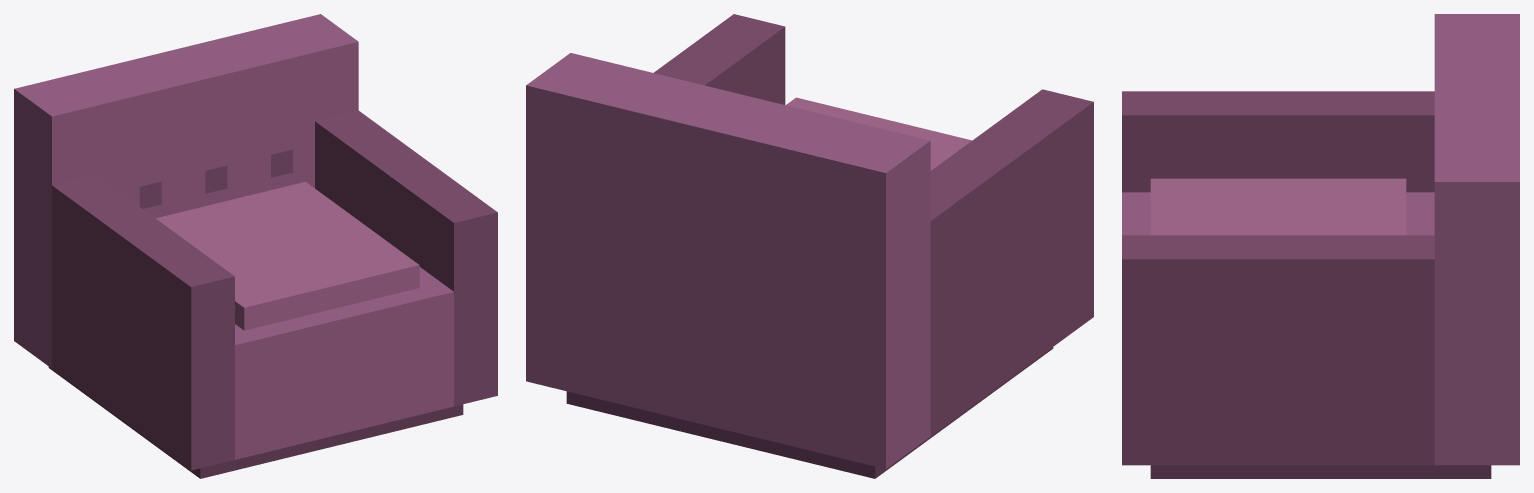
Rendered from butaca_terciopelo_noble_01.glb.
3 views of the same model, side by side, from view 1: azimuth 30°, elevation 25°; view 2: azimuth 150°, elevation 25°; view 3: azimuth 270°, elevation 25° (orthographic). The views are drawn at different scales.
Visible parts, largest first — view 1: butaca_terciopelo_noble; view 2: butaca_terciopelo_noble; view 3: butaca_terciopelo_noble.
Part boxes in pixels (left/top/right/bottom): butaca_terciopelo_noble: left=14, top=14, right=497, bottom=478; butaca_terciopelo_noble: left=526, top=14, right=1093, bottom=478; butaca_terciopelo_noble: left=1122, top=14, right=1519, bottom=478.
Bounding box in the file's own units: 1 × 0.8571 × 1.
